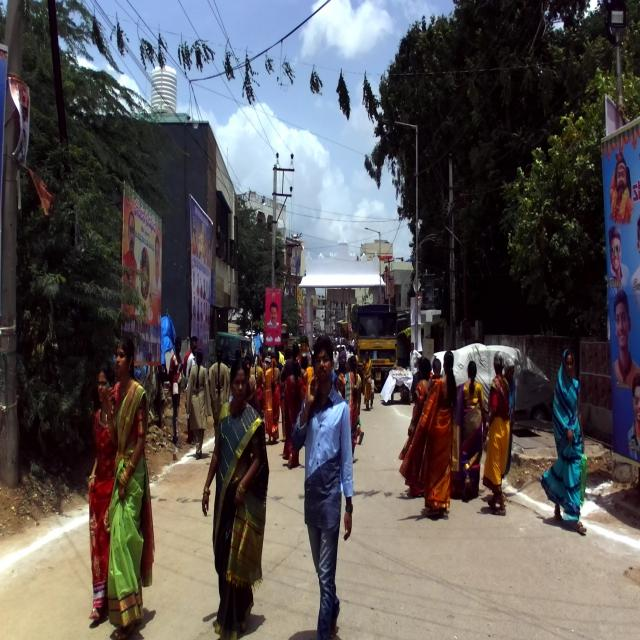Car: (445, 342, 556, 422)
truck: (352, 297, 402, 394)
